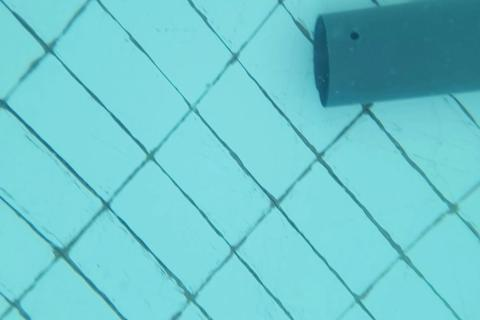kebocoran: (349, 28, 360, 42)
